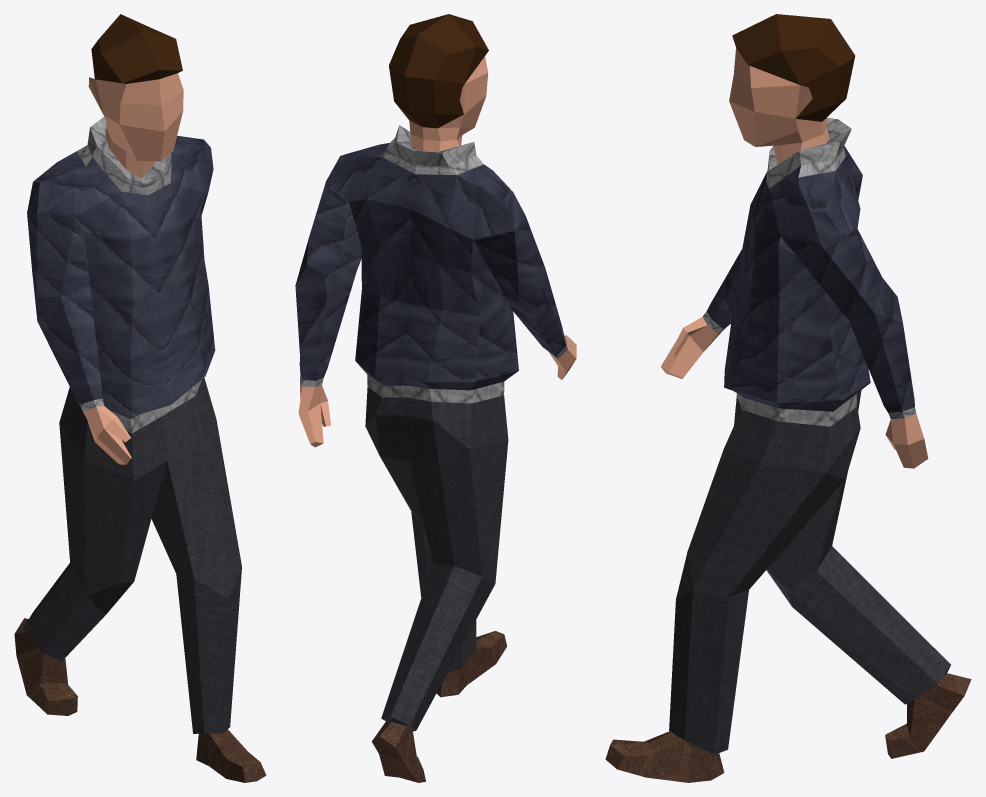
Rendered from AutumnBoy.009.glb.
3 renders of one model, left to right at view 1: azimuth 30°, elevation 25°; view 2: azimuth 150°, elevation 25°; view 3: azimuth 270°, elevation 25°, orthographic. The views are drawn at different scales.
Visible parts, largest first — view 1: AutumnBoy.009; view 2: AutumnBoy.009; view 3: AutumnBoy.009.
Part boxes in pixels (x1,y1,x2,y2): AutumnBoy.009: [14, 14, 266, 782]; AutumnBoy.009: [295, 14, 576, 782]; AutumnBoy.009: [605, 14, 971, 782].
Bounding box in the file's own units: 0.4392 × 1.51 × 0.6692.
Materials: 1 (1 with a texture image).
